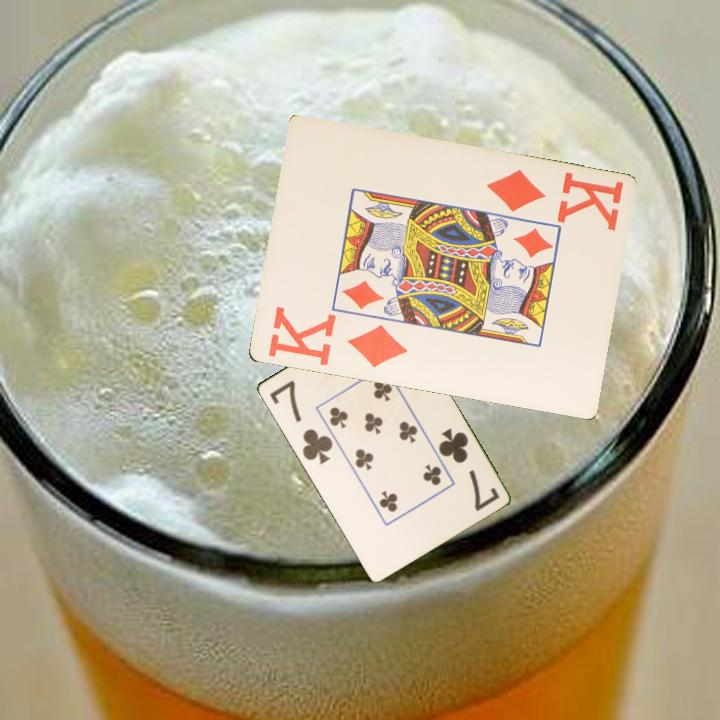7c: (265, 376, 335, 467), (434, 424, 502, 514)
Kd: (264, 303, 410, 371), (482, 166, 626, 233)
